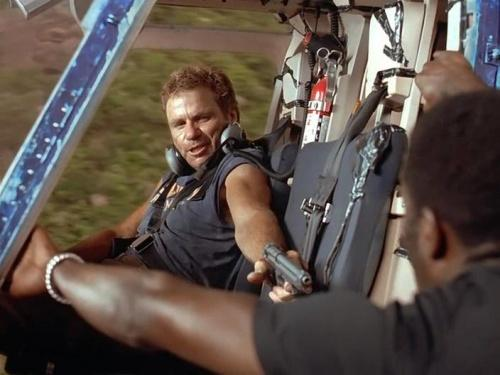Gun: (264, 243, 313, 302)
